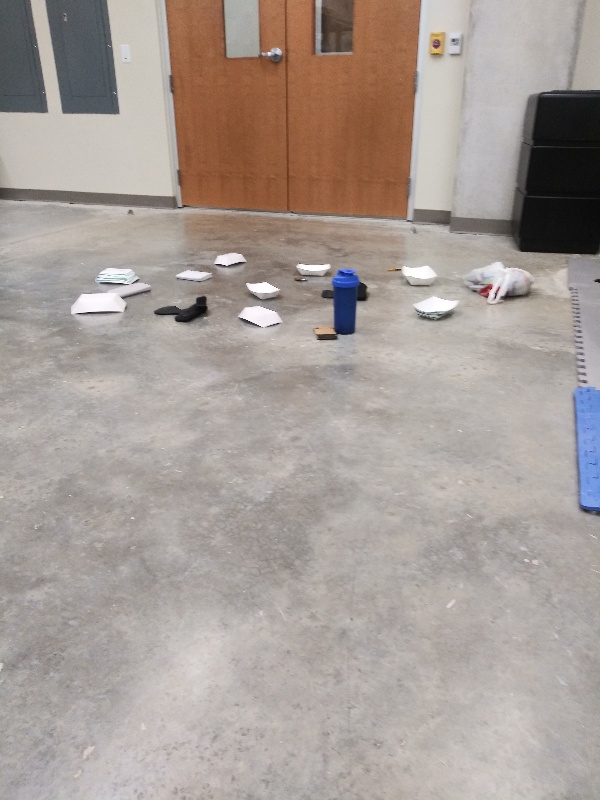plate: (67, 287, 129, 319), (234, 302, 289, 330), (410, 294, 462, 320), (92, 263, 143, 287), (395, 261, 438, 286), (210, 249, 251, 270), (291, 259, 333, 279), (242, 279, 280, 298)
